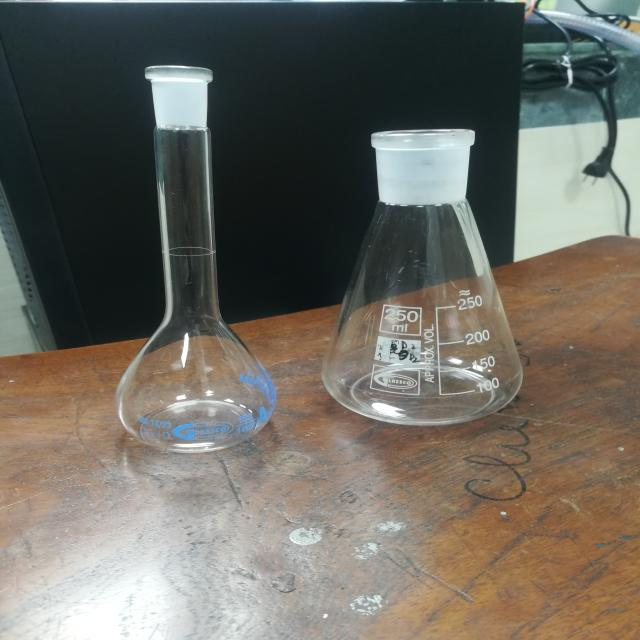Conical_Flask: (308, 102, 561, 439)
Volumetric_Flask: (76, 31, 296, 469)
